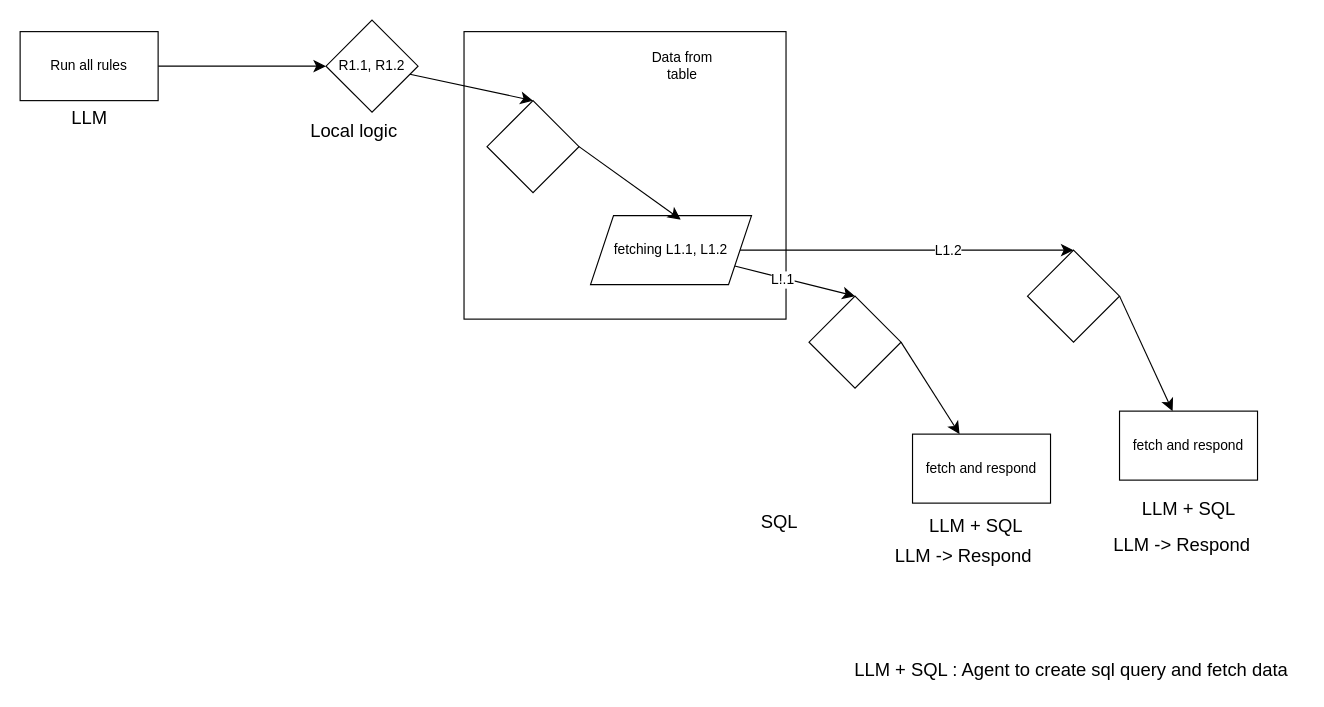
Some shapes in this 1324 by 707 pixel diagram are drawn without their labels. The centre of each missing label's shape, as x and y in pixels:
D1.1: pixel 532 146
R1.23,R1.24: pixel 854 341
R1.56,R1.54: pixel 1073 295
